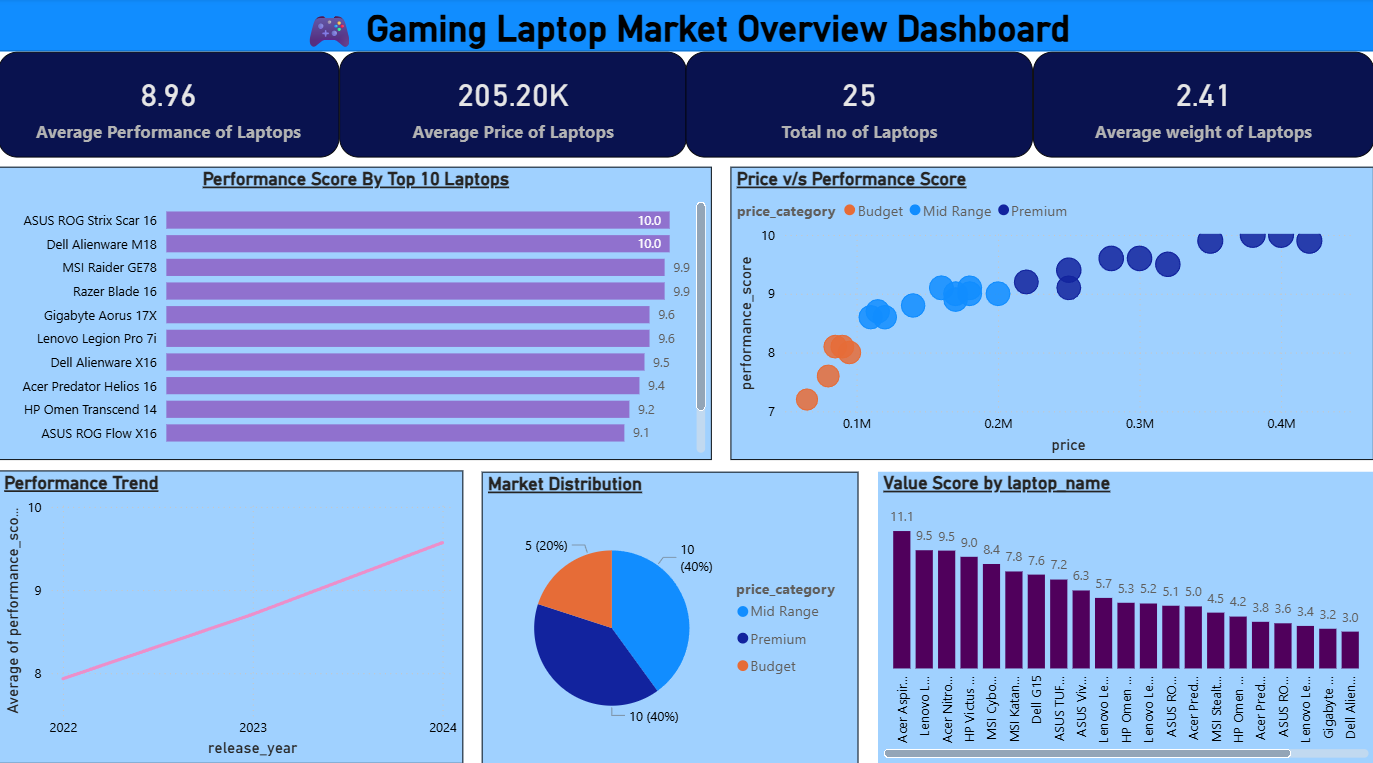

This screenshot's page, from the dashboard's own definition file:
{"tool":"powerbi","page":{"name":"Laptop Market Overview Dashboard","canvas":[1280,720],"ordinal":0},"visuals":[{"type":"shape","box":[0,0,1280,49.8],"z":0},{"type":"card","fields":{"Values":["laptop_dashboard.Avg Performance"]},"box":[0,49.8,317.2,98.3],"z":1000},{"type":"card","fields":{"Values":["laptop_dashboard.Avg Price"]},"box":[317.2,49.8,323.4,98.3],"z":2000},{"type":"card","fields":{"Values":["CountNonNull(laptop_dashboard.sno)"]},"box":[639.4,49.8,323.4,98.3],"z":3000},{"type":"card","fields":{"Values":["Avg(laptop_dashboard.weight)"]},"box":[962.8,49.8,317.2,98.3],"z":4000},{"type":"clusteredBarChart","title":"Performance Score By Top 10 Laptops","fields":{"Category":["laptop_dashboard.laptop_name"],"Y":["Sum(laptop_dashboard.performance_score)"]},"box":[0,156.7,664.3,272.4],"z":5000},{"type":"scatterChart","title":"Price v/s Performance Score","fields":{"X":["laptop_dashboard.price"],"Y":["laptop_dashboard.performance_score"],"Size":["Sum(laptop_dashboard.gpu_rating)"],"Series":["laptop_dashboard.price_category"]},"box":[681.7,156.7,598.3,272.4],"z":5001},{"type":"lineChart","title":"Performance Trend","fields":{"Category":["laptop_dashboard.release_year"],"Y":["Avg(laptop_dashboard.performance_score)"]},"box":[0,439.1,432.9,272.4],"z":5002},{"type":"pieChart","title":"Market Distribution","fields":{"Category":["laptop_dashboard.price_category"],"Y":["CountNonNull(laptop_dashboard.sno)"]},"box":[450.3,440.4,350.8,272.4],"z":5003},{"type":"clusteredColumnChart","fields":{"Category":["laptop_dashboard.laptop_name"],"Y":["laptop_dashboard.Value Score"]},"box":[818.5,440.4,461.5,271.2],"z":5004}]}

Visuals, with their boxes in screenshot pixels (x1, y1, x2, y2), scaled from the page's 1280x720 canvas onto the 1373x763 screenshot:
shape: <bbox>0, 0, 1372, 53</bbox>
card - laptop_dashboard.Avg Performance: <bbox>0, 53, 340, 157</bbox>
card - laptop_dashboard.Avg Price: <bbox>340, 53, 687, 157</bbox>
card - CountNonNull(laptop_dashboard.sno): <bbox>686, 53, 1033, 157</bbox>
card - Avg(laptop_dashboard.weight): <bbox>1033, 53, 1372, 157</bbox>
"Performance Score By Top 10 Laptops" clusteredBarChart: <bbox>0, 166, 713, 455</bbox>
"Price v/s Performance Score" scatterChart: <bbox>731, 166, 1372, 455</bbox>
"Performance Trend" lineChart: <bbox>0, 465, 464, 754</bbox>
"Market Distribution" pieChart: <bbox>483, 467, 859, 755</bbox>
clusteredColumnChart - laptop_dashboard.laptop_name x laptop_dashboard.Value Score: <bbox>878, 467, 1372, 754</bbox>
